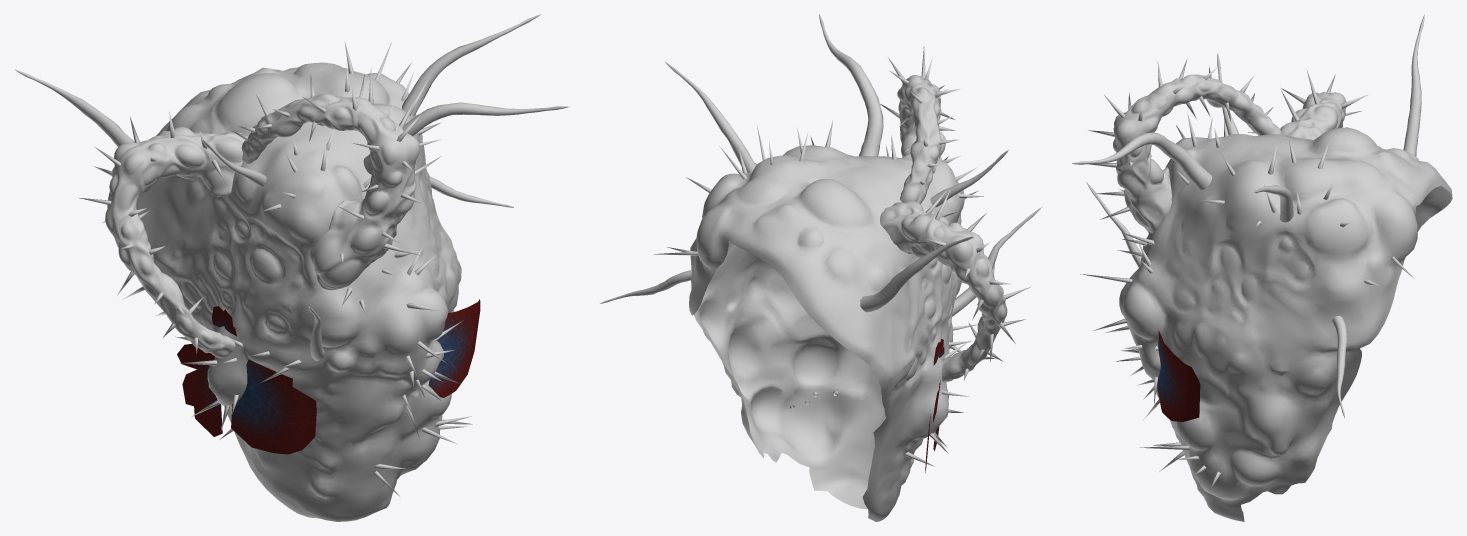
File: Billboardmakaijyu.fbx
The picture shows the model from 3 angles, left to right: view 1: azimuth 30°, elevation 25°; view 2: azimuth 150°, elevation 25°; view 3: azimuth 270°, elevation 25°; orthographic projection. The views are drawn at different scales.
Parts seen in each view (by area): view 1: LODGroup_1_MainMesh_1_SubMesh_2, LODGroup_1_MainMesh_1_SubMesh_1; view 2: LODGroup_1_MainMesh_1_SubMesh_2; view 3: LODGroup_1_MainMesh_1_SubMesh_2, LODGroup_1_MainMesh_1_SubMesh_1.
Boxes of the visible parts, x1,y1,x2,y2 form: LODGroup_1_MainMesh_1_SubMesh_2: (15, 14, 569, 521); LODGroup_1_MainMesh_1_SubMesh_1: (177, 299, 480, 454); LODGroup_1_MainMesh_1_SubMesh_2: (599, 14, 1041, 521); LODGroup_1_MainMesh_1_SubMesh_2: (1072, 15, 1452, 521); LODGroup_1_MainMesh_1_SubMesh_1: (1157, 330, 1200, 421).
Bounding box in the file's own units: 1469 × 1455 × 1155.
